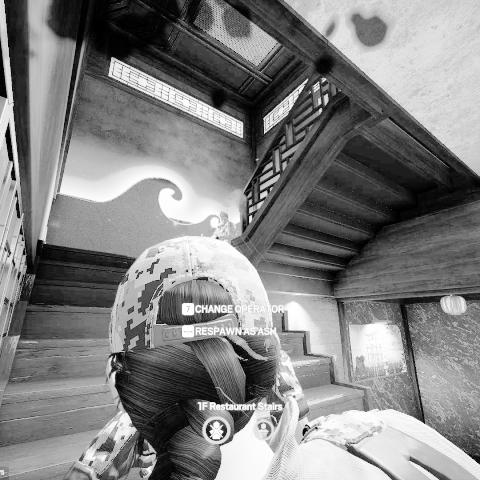Character: (63, 232, 479, 480), (210, 210, 240, 240)
Head: (103, 234, 285, 461), (218, 212, 230, 224)
